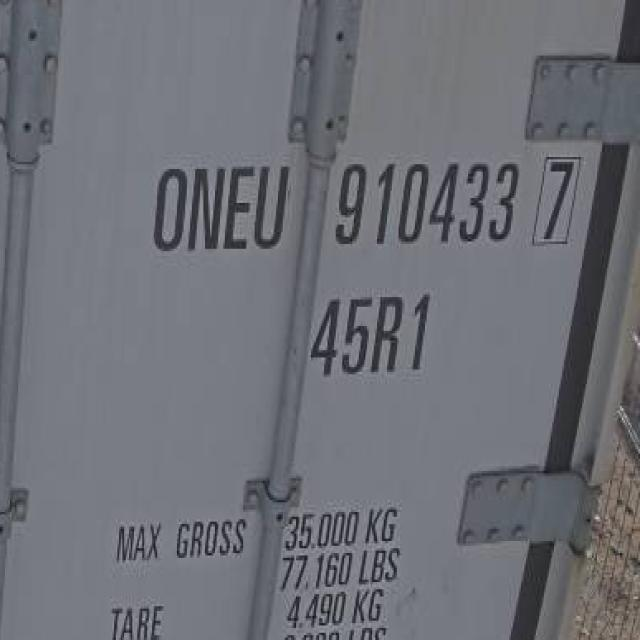dv: (530, 152, 582, 252)
owner: (142, 156, 293, 258)
serial: (330, 155, 520, 254)
size: (307, 282, 441, 386)
